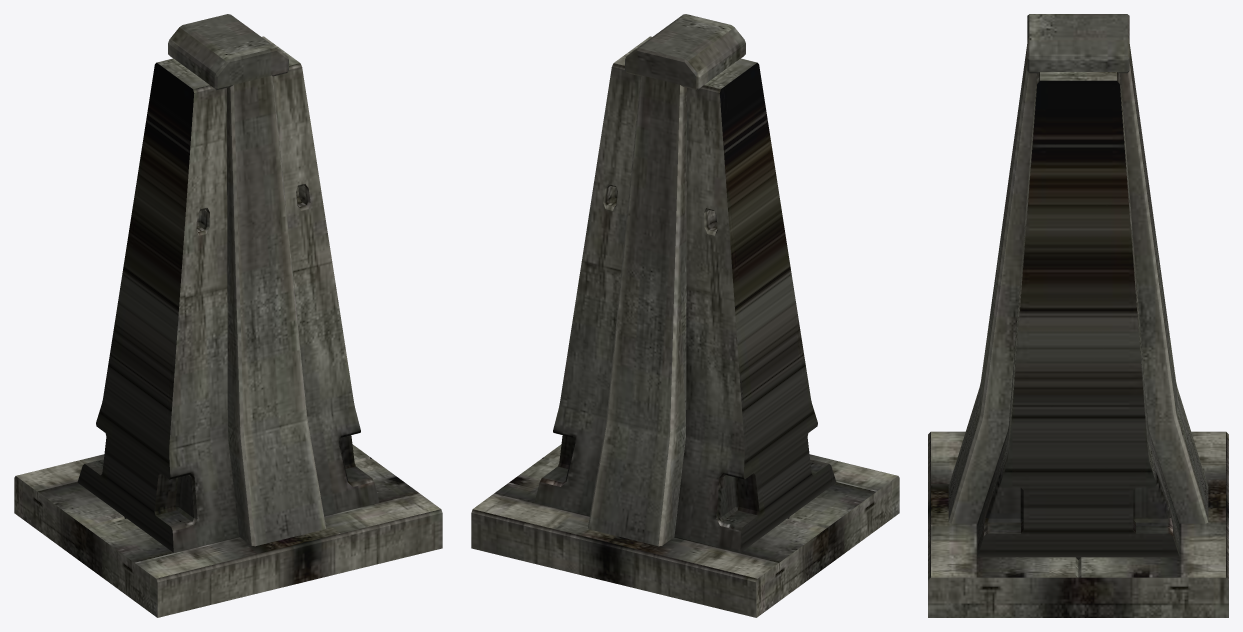
Rendered from stone-wall.glb.
3 renders of one model, left to right at view 1: azimuth 30°, elevation 25°; view 2: azimuth 150°, elevation 25°; view 3: azimuth 270°, elevation 25°, orthographic. The views are drawn at different scales.
Visible parts, largest first — view 1: body; view 2: body; view 3: body.
Boxes of the visible parts, box(x1,y1,x2,y2) form: body: box(14, 14, 442, 617); body: box(471, 14, 899, 617); body: box(928, 14, 1228, 617).
Bounding box in the file's own units: 0.7972 × 1.32 × 0.6932.
Materials: 1 (1 with a texture image).
